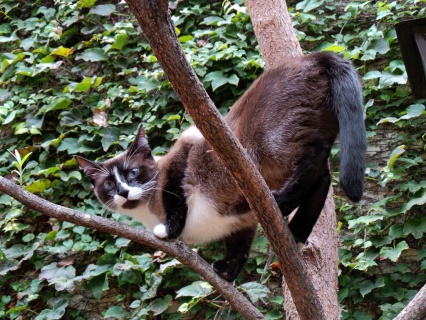Cat: (73, 49, 369, 282)
